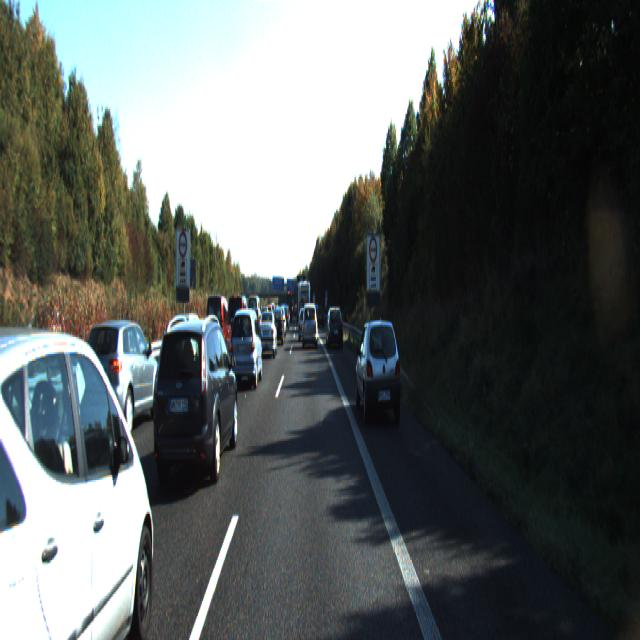Car: (0, 318, 161, 639), (149, 316, 239, 498), (78, 317, 160, 444), (355, 316, 402, 426), (167, 312, 209, 388), (228, 305, 263, 388), (204, 294, 230, 362), (227, 294, 250, 348), (258, 310, 278, 357), (326, 305, 343, 347), (303, 304, 318, 350), (270, 307, 286, 345)
